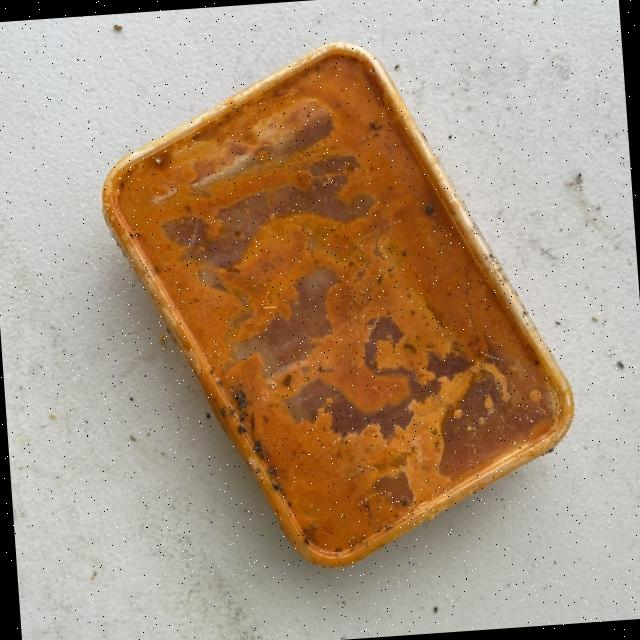plastic: (90, 25, 584, 582)
